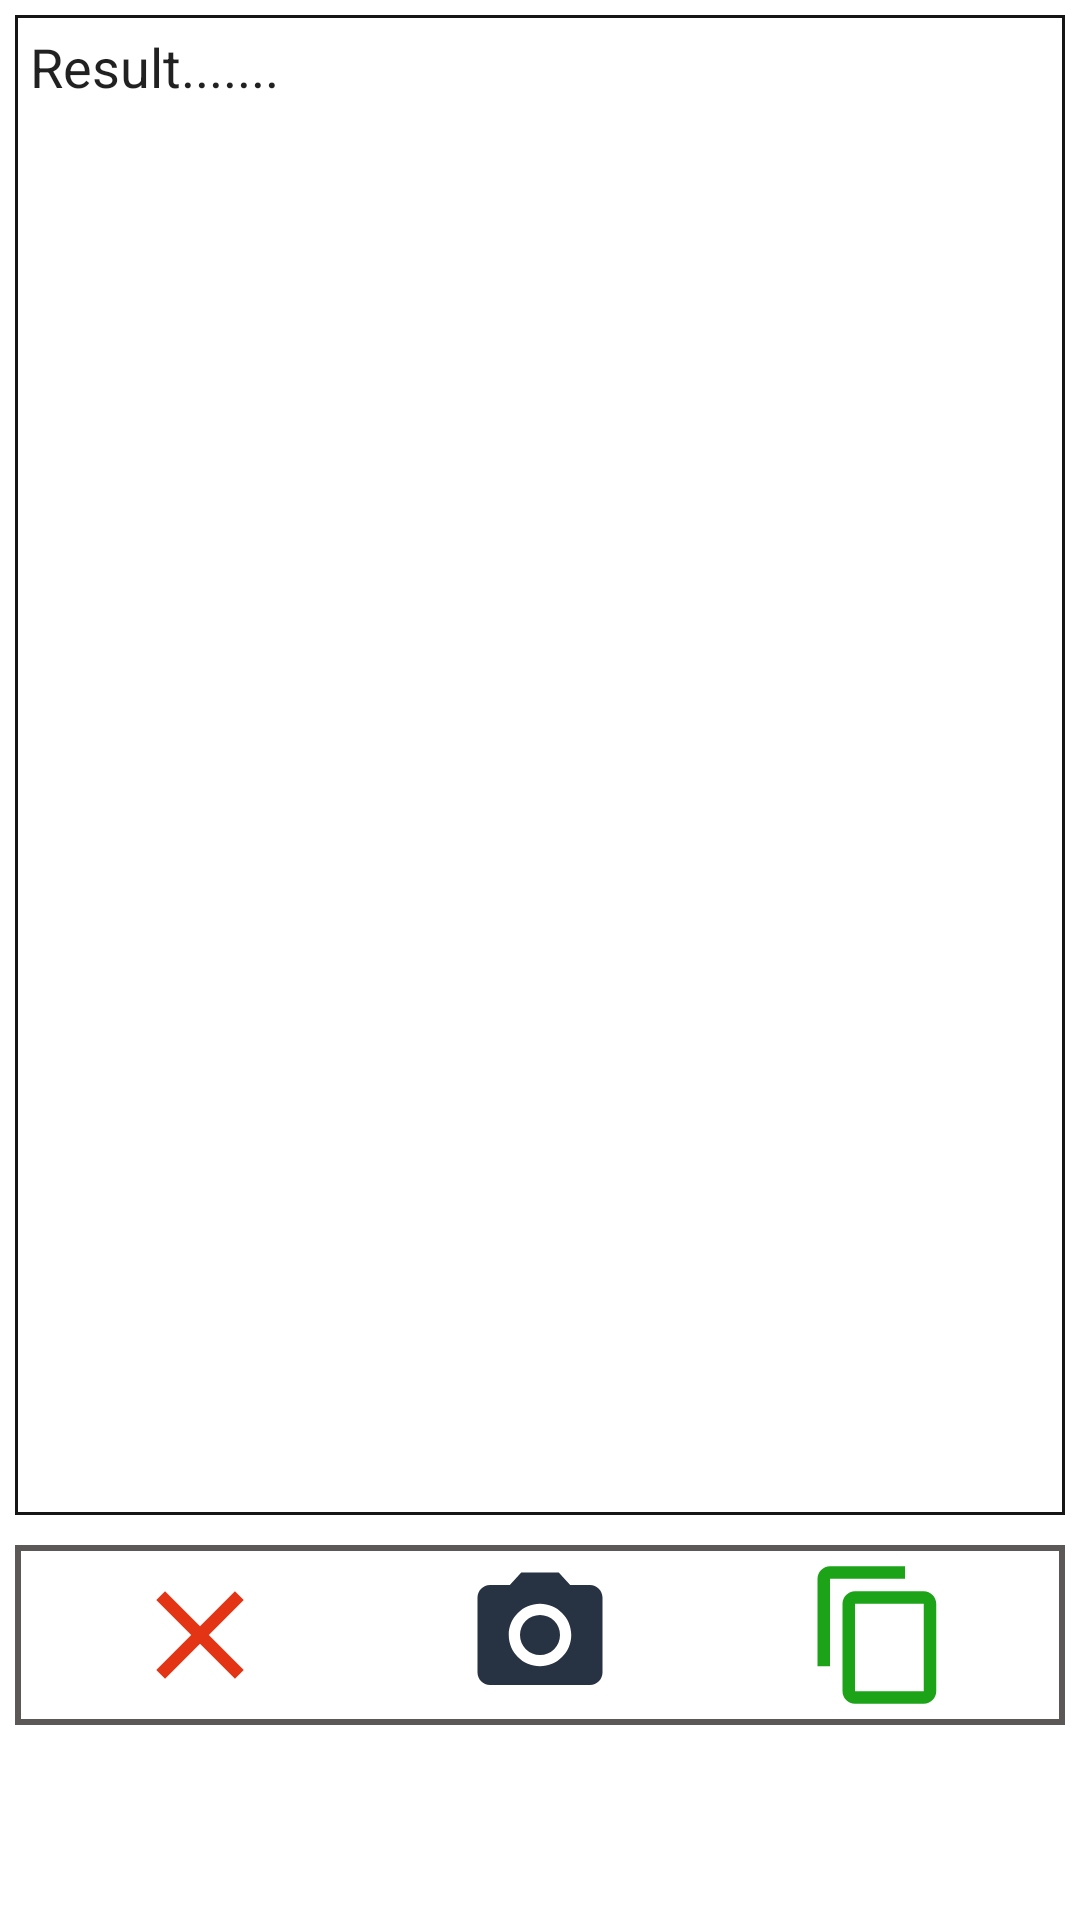

Where to tap for icons on this 1080 x 1920 app screen, as (x=x, y=y):
camera: (x=540, y=1628)
clear: (x=200, y=1635)
